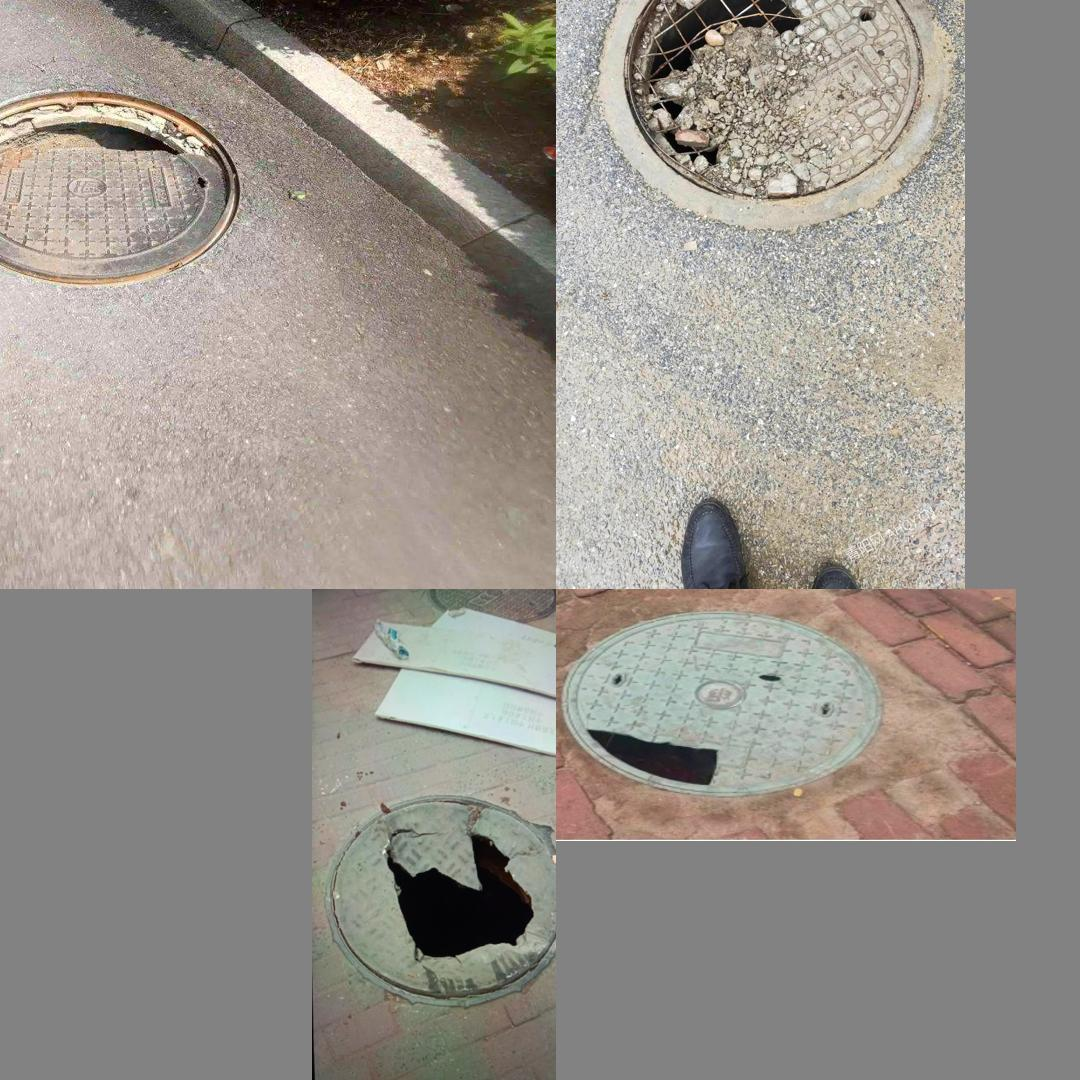broke: (598, 0, 943, 233), (579, 615, 877, 789), (325, 795, 555, 1008), (0, 91, 235, 284)
